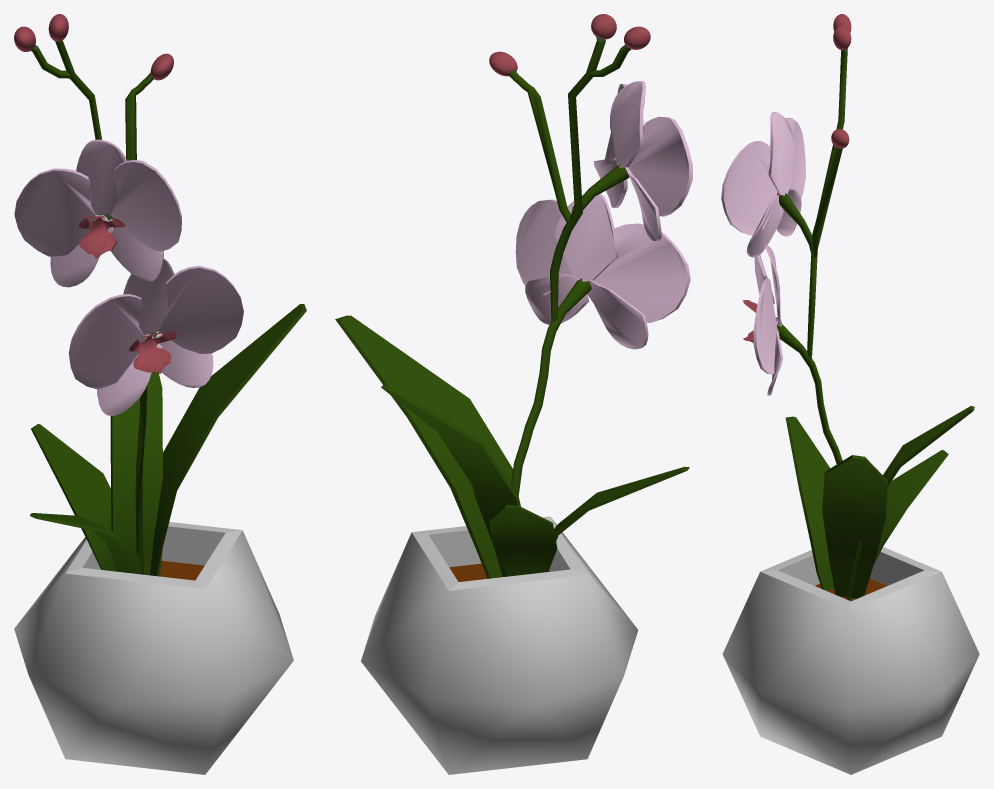
Rendered from Orchid.glb.
3 renders of one model, left to right at view 1: azimuth 30°, elevation 25°; view 2: azimuth 150°, elevation 25°; view 3: azimuth 270°, elevation 25°, orthographic. The views are drawn at different scales.
Parts seen in each view (by area): view 1: Box003, GeoSphere001; view 2: Box003, GeoSphere001; view 3: GeoSphere001, Box003.
Part boxes in pixels (x1=…): Box003: x1=14, y1=14, x2=306, y2=576; GeoSphere001: x1=14, y1=522, x2=293, y2=774; Box003: x1=335, y1=14, x2=692, y2=578; GeoSphere001: x1=361, y1=516, x2=638, y2=774; GeoSphere001: x1=722, y1=547, x2=979, y2=774; Box003: x1=721, y1=14, x2=974, y2=600.
Bounding box in the file's own units: 53.66 × 119 × 41.56.
